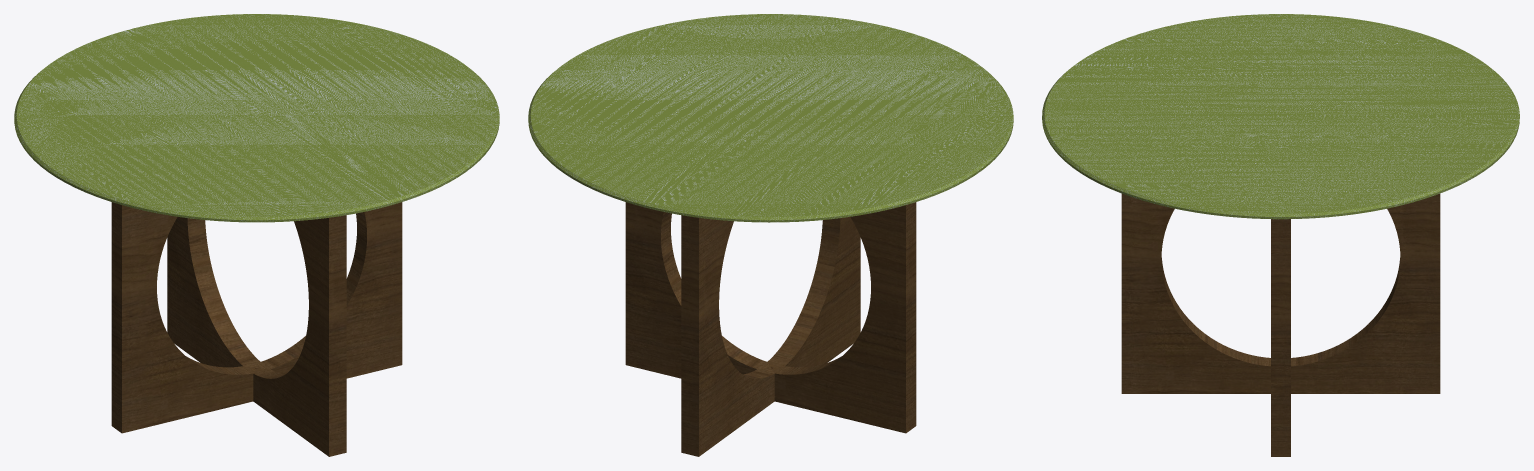
The picture shows the model from 3 angles, left to right: view 1: azimuth 30°, elevation 25°; view 2: azimuth 150°, elevation 25°; view 3: azimuth 270°, elevation 25°; orthographic projection.
Visible parts, largest first — view 1: mesh3_mesh3-geometry, mesh3_mesh3-geometry_1, mesh2_mesh2-geometry, mesh1_mesh1-geometry; view 2: mesh3_mesh3-geometry, mesh3_mesh3-geometry_1, mesh2_mesh2-geometry, mesh1_mesh1-geometry; view 3: mesh3_mesh3-geometry, mesh3_mesh3-geometry_1, mesh1_mesh1-geometry, mesh2_mesh2-geometry.
Part boxes in pixels (<box>): mesh3_mesh3-geometry: <box>14,14,499,222</box>; mesh3_mesh3-geometry_1: <box>14,14,499,222</box>; mesh2_mesh2-geometry: <box>111,202,402,433</box>; mesh1_mesh1-geometry: <box>167,215,346,456</box>; mesh3_mesh3-geometry: <box>528,14,1013,222</box>; mesh3_mesh3-geometry_1: <box>528,14,1013,222</box>; mesh2_mesh2-geometry: <box>625,202,916,433</box>; mesh1_mesh1-geometry: <box>681,215,860,456</box>; mesh3_mesh3-geometry: <box>1042,14,1519,219</box>; mesh3_mesh3-geometry_1: <box>1042,14,1519,219</box>; mesh1_mesh1-geometry: <box>1121,193,1440,393</box>; mesh2_mesh2-geometry: <box>1271,219,1290,456</box>.
Size of the model in its own units: 0.6448 by 0.4105 by 0.6448.
Materials: 4 (1 with a texture image).
